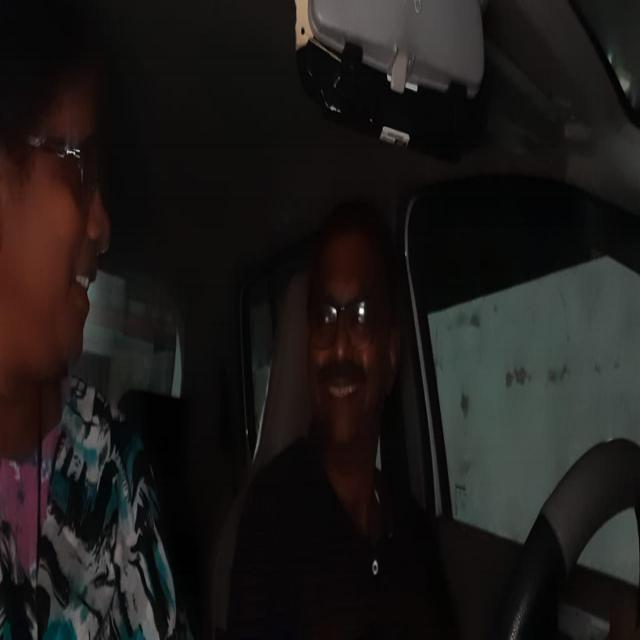LeftRight: (298, 182, 406, 470)
person: (0, 0, 118, 411)
talking: (318, 365, 367, 414), (70, 263, 100, 313)
